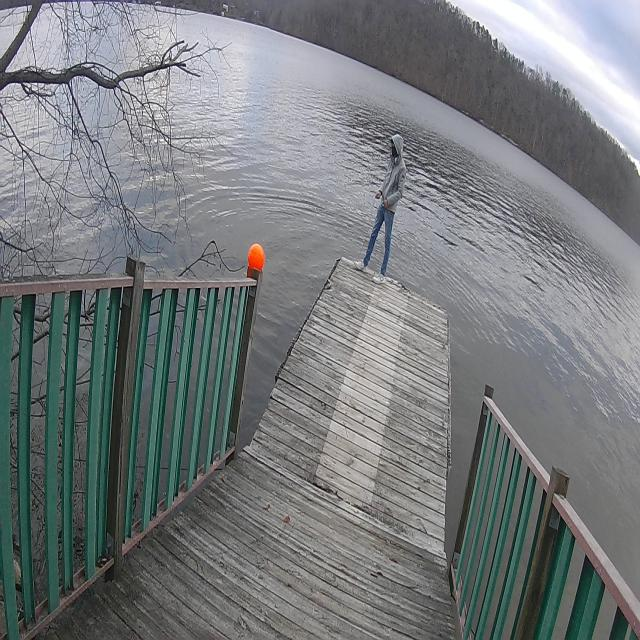Buoy: (246, 238, 267, 279)
